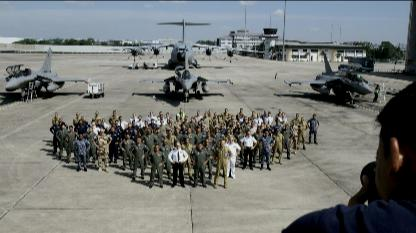A400M: (106, 17, 264, 68)
Be200: (122, 39, 164, 53)
RQ4: (0, 45, 93, 101), (139, 50, 233, 101), (283, 52, 375, 103)
